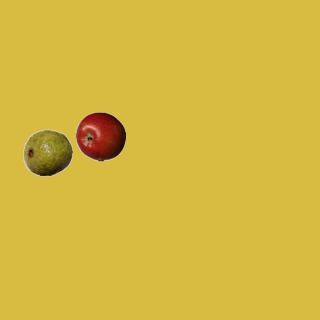Apple Braeburn: (75, 111, 125, 161)
Guava: (22, 127, 72, 177)
